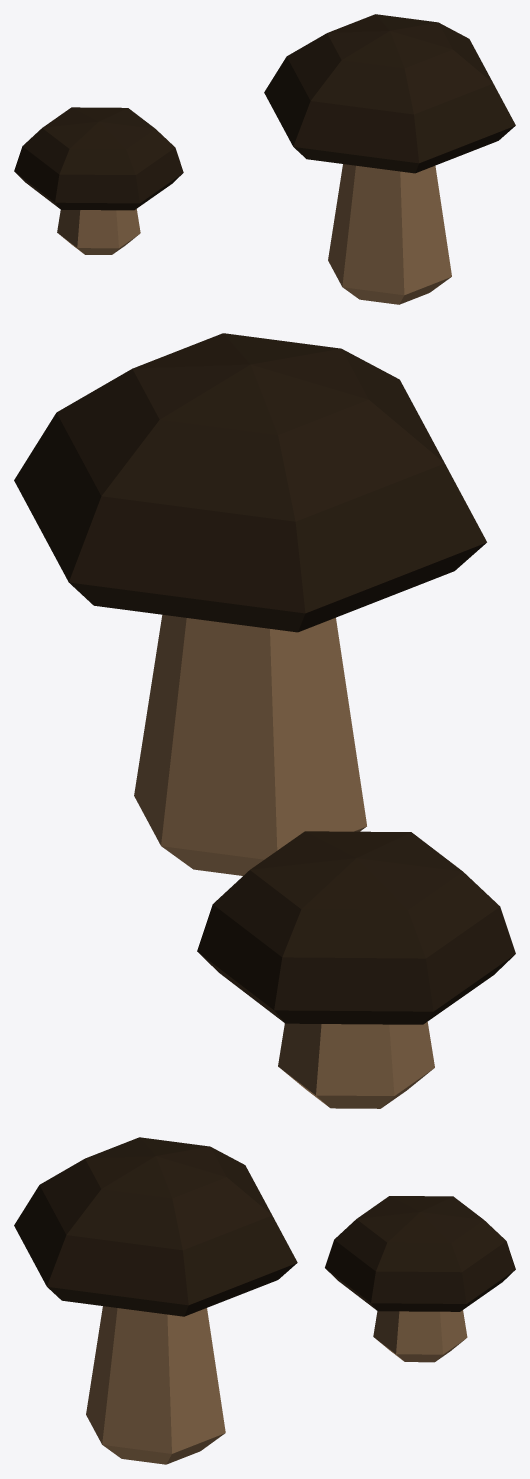
The model's file is mushroom5.FBX.
3 renders of one model, top to bottom at view 1: azimuth 30°, elevation 25°; view 2: azimuth 150°, elevation 25°; view 3: azimuth 270°, elevation 25°, orthographic. The views are drawn at different scales.
Parts seen in each view (by area): view 1: mushroom5; view 2: mushroom5; view 3: mushroom5.
Boxes of the visible parts, box(x1,y1,x2,y2) form: mushroom5: box(14, 14, 515, 304); mushroom5: box(14, 333, 515, 1108); mushroom5: box(14, 1137, 515, 1464).
Bounding box in the file's own units: 17.25 × 19.05 × 12.17.
